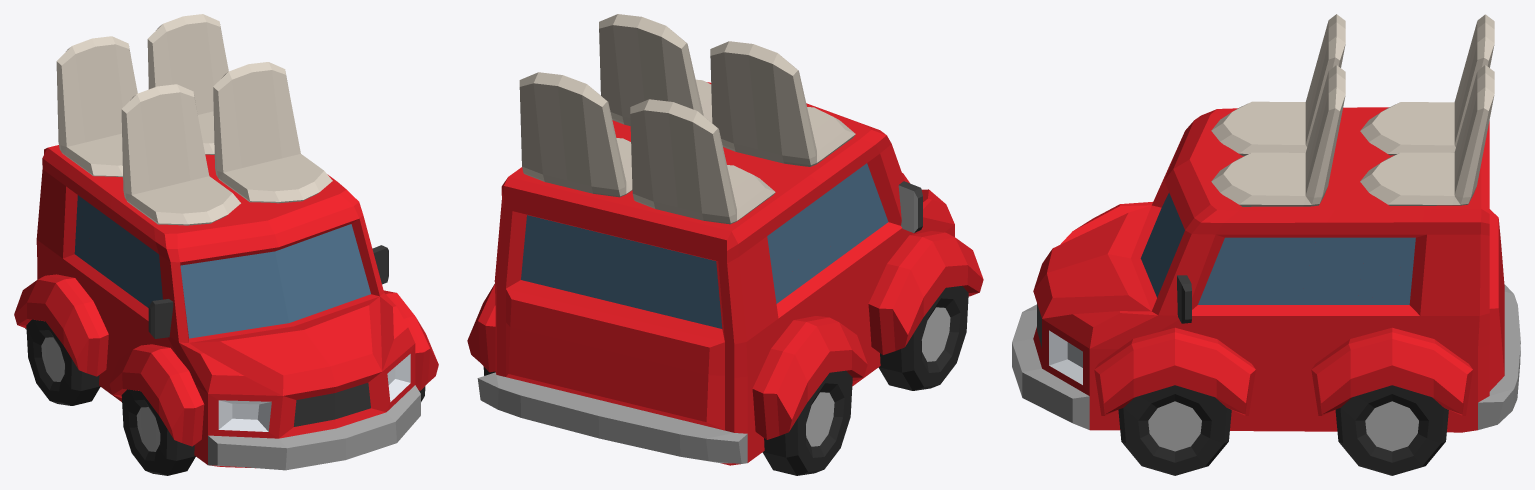
The model's file is Bus_Red.fbx.
3 views of the same model, side by side, from view 1: azimuth 30°, elevation 25°; view 2: azimuth 150°, elevation 25°; view 3: azimuth 270°, elevation 25° (orthographic). The views are drawn at different scales.
Parts seen in each view (by area): view 1: Bus_Red; view 2: Bus_Red; view 3: Bus_Red.
Boxes of the visible parts, left/top/right/bottom form: Bus_Red: left=14, top=14, right=438, bottom=475; Bus_Red: left=467, top=14, right=983, bottom=475; Bus_Red: left=1012, top=14, right=1520, bottom=475.
Size of the model in its own units: 483 by 548 by 700.
